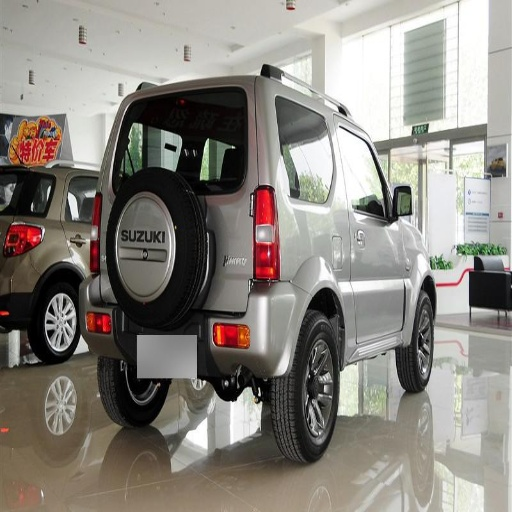back_bumper: (148, 281, 303, 376)
back_right_door: (276, 94, 367, 269)
tailgate: (117, 247, 164, 296)
trunk: (204, 182, 253, 271)
